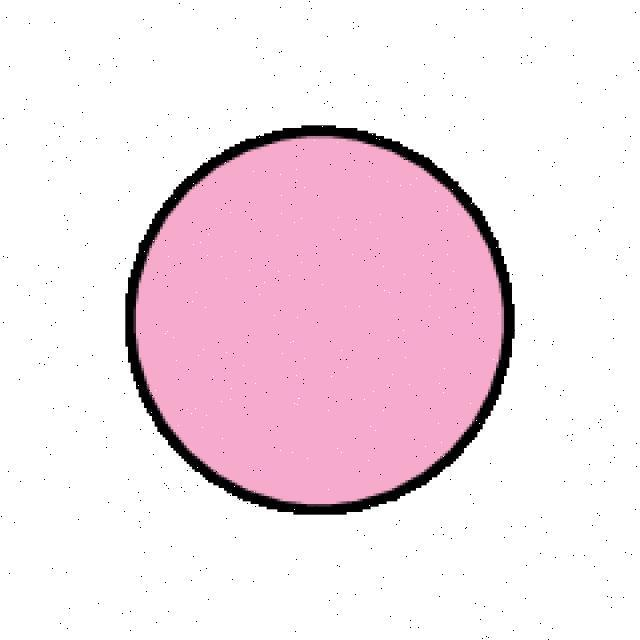Circle: (117, 119, 519, 518)
